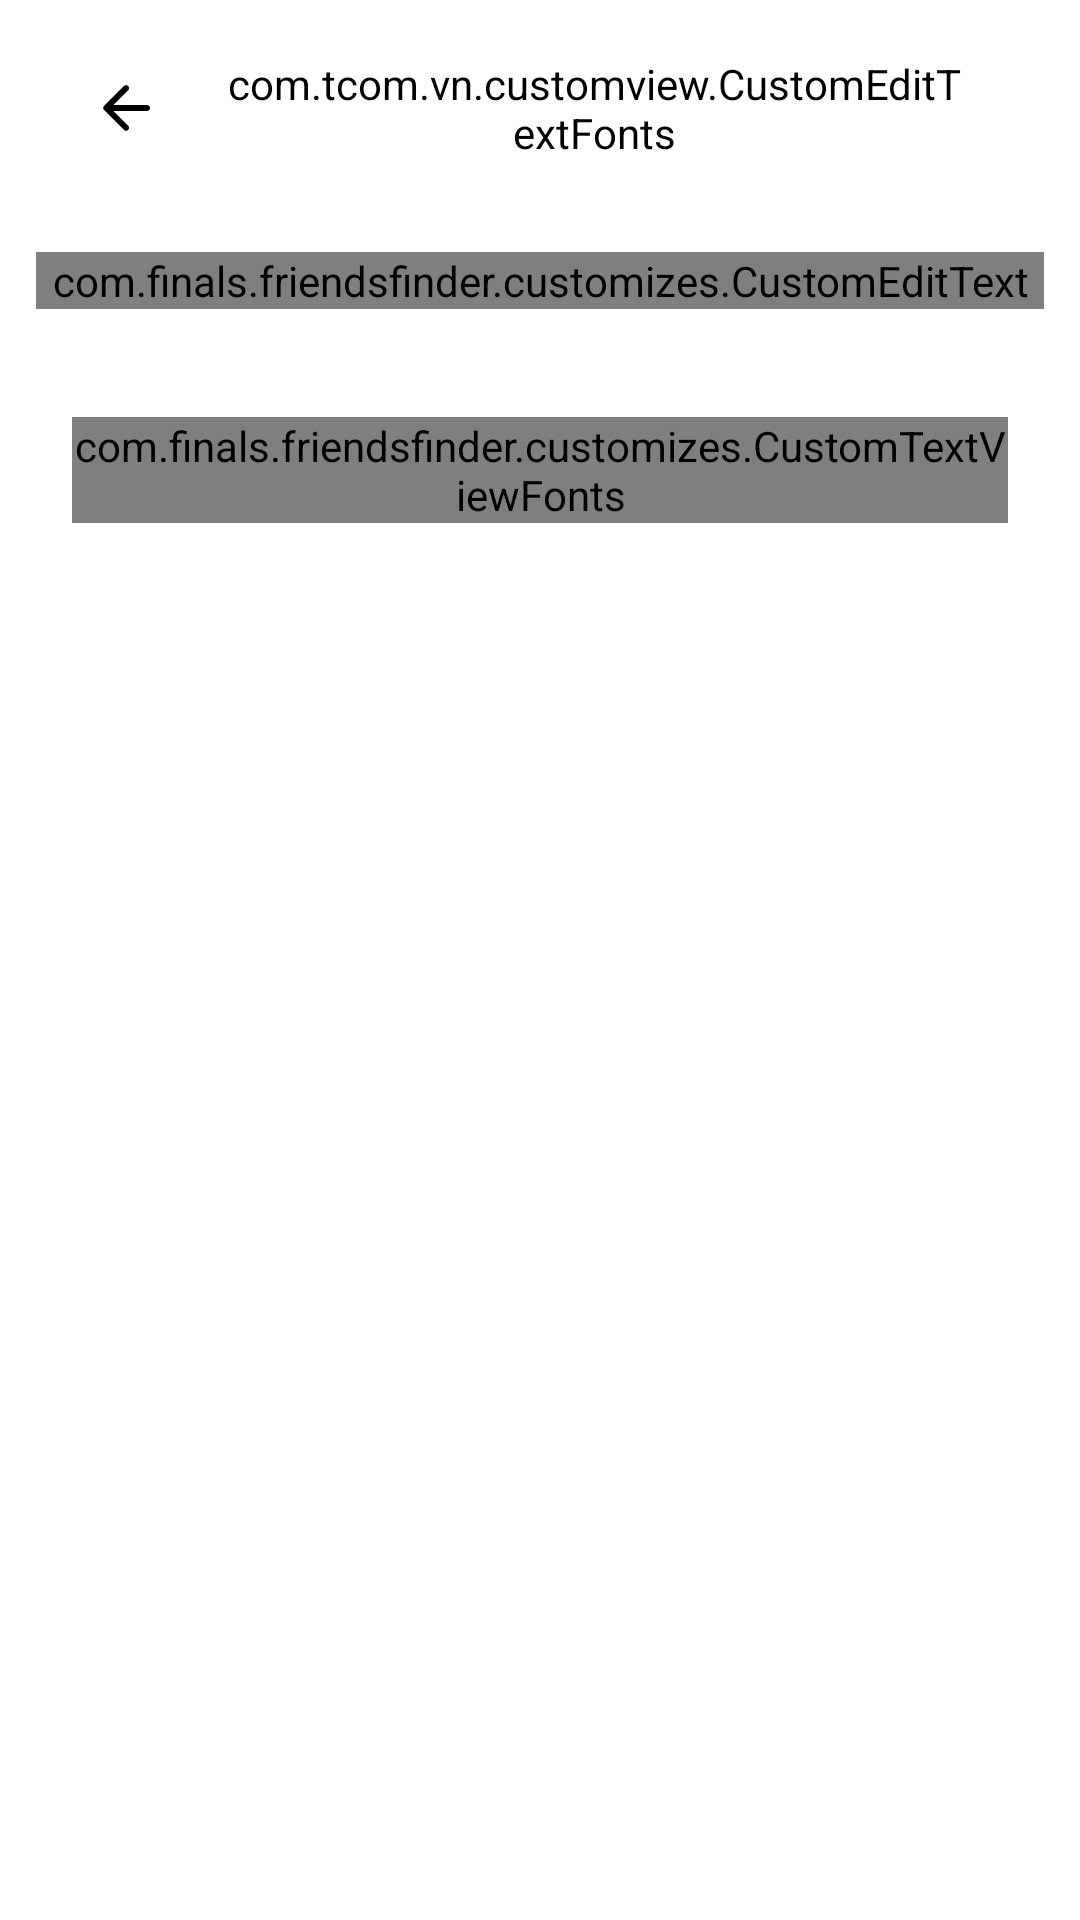

Icon click points for this 1080w x 1920h phone screenshot, format [x,y]:
arrow back: [126,108]
